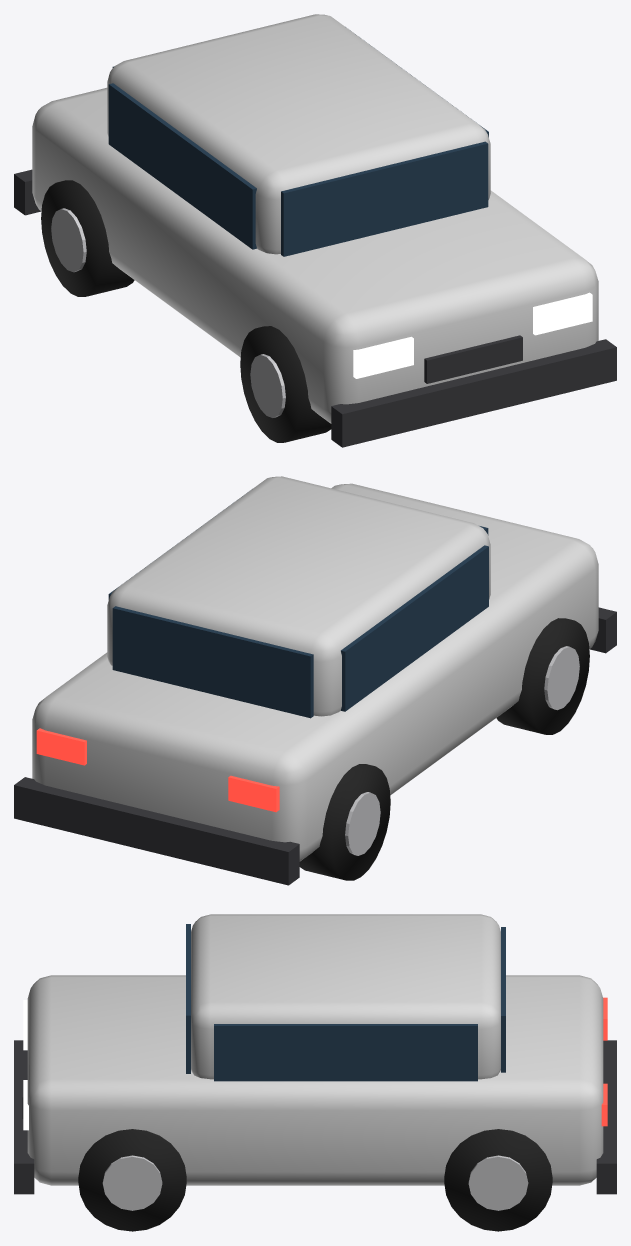
File: car.glb
3 views of the same model, one above another, from view 1: azimuth 30°, elevation 25°; view 2: azimuth 150°, elevation 25°; view 3: azimuth 270°, elevation 25° (orthographic). The views are drawn at different scales.
Visible parts, largest first — view 1: CarBody, CarCabin, Windshield, BumperF, SideWindow-1, Wheel-1+1, Wheel-1-1, Grille, Headlight-1, Headlight+1, Wheel-1-1Hub, Wheel-1+1Hub (+1 smaller); view 2: CarBody, CarCabin, RearWindow, BumperR, SideWindow-1, Wheel-1-1, Wheel-1+1, Wheel-1-1Hub, Wheel-1+1Hub, Taillight-1, Taillight+1, BumperF; view 3: CarBody, CarCabin, SideWindow+1, Wheel+1+1, Wheel+1-1, Wheel+1+1Hub, Wheel+1-1Hub, BumperR, BumperF, Windshield, RearWindow.
Part boxes in pixels (left/top/right/bottom): CarBody: left=32, top=87, right=598, bottom=423; CarCabin: left=107, top=14, right=490, bottom=254; Windshield: left=281, top=141, right=488, bottom=256; BumperF: left=331, top=339, right=616, bottom=447; SideWindow-1: left=108, top=83, right=256, bottom=249; Wheel-1+1: left=41, top=180, right=134, bottom=296; Wheel-1-1: left=240, top=326, right=331, bottom=442; Grille: left=424, top=335, right=522, bottom=383; Headlight-1: left=353, top=336, right=413, bottom=378; Headlight+1: left=533, top=292, right=592, bottom=335; Wheel-1-1Hub: left=250, top=354, right=285, bottom=417; Wheel-1+1Hub: left=51, top=208, right=86, bottom=272; CarBody: left=32, top=483, right=598, bottom=861; CarCabin: left=107, top=476, right=490, bottom=716; RearWindow: left=112, top=606, right=313, bottom=718; BumperR: left=14, top=777, right=299, bottom=885; SideWindow-1: left=341, top=545, right=488, bottom=711; Wheel-1-1: left=496, top=618, right=589, bottom=734; Wheel-1+1: left=299, top=764, right=390, bottom=880; Wheel-1-1Hub: left=544, top=646, right=579, bottom=710; Wheel-1+1Hub: left=345, top=792, right=380, bottom=855; Taillight-1: left=228, top=775, right=279, bottom=812; Taillight+1: left=36, top=728, right=86, bottom=765; BumperF: left=590, top=607, right=616, bottom=653; CarBody: left=27, top=975, right=603, bottom=1185; CarCabin: left=191, top=914, right=500, bottom=1079; SideWindow+1: left=214, top=1024, right=477, bottom=1081; Wheel+1+1: left=444, top=1129, right=552, bottom=1231; Wheel+1-1: left=78, top=1129, right=186, bottom=1231; Wheel+1+1Hub: left=468, top=1155, right=528, bottom=1210; Wheel+1-1Hub: left=102, top=1155, right=162, bottom=1210; BumperR: left=596, top=1040, right=616, bottom=1194; BumperF: left=14, top=1040, right=34, bottom=1194; Windshield: left=186, top=924, right=190, bottom=1073; RearWindow: left=501, top=927, right=505, bottom=1072.
Size of the model in its own units: 1.86 by 1.35 by 3.56.
